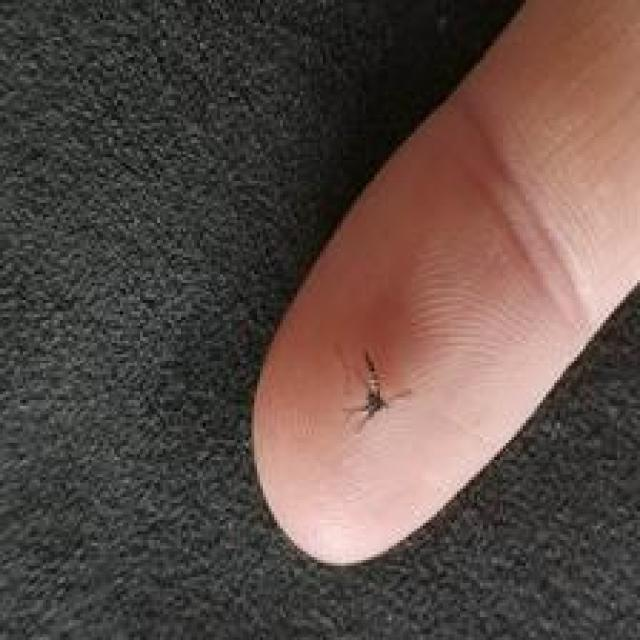Aedes albopictus: (341, 350, 410, 430)
